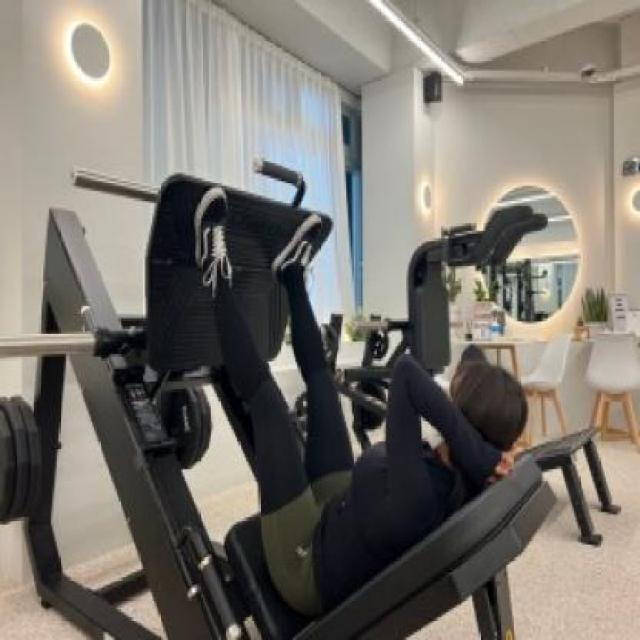leg press: (0, 103, 569, 640)
